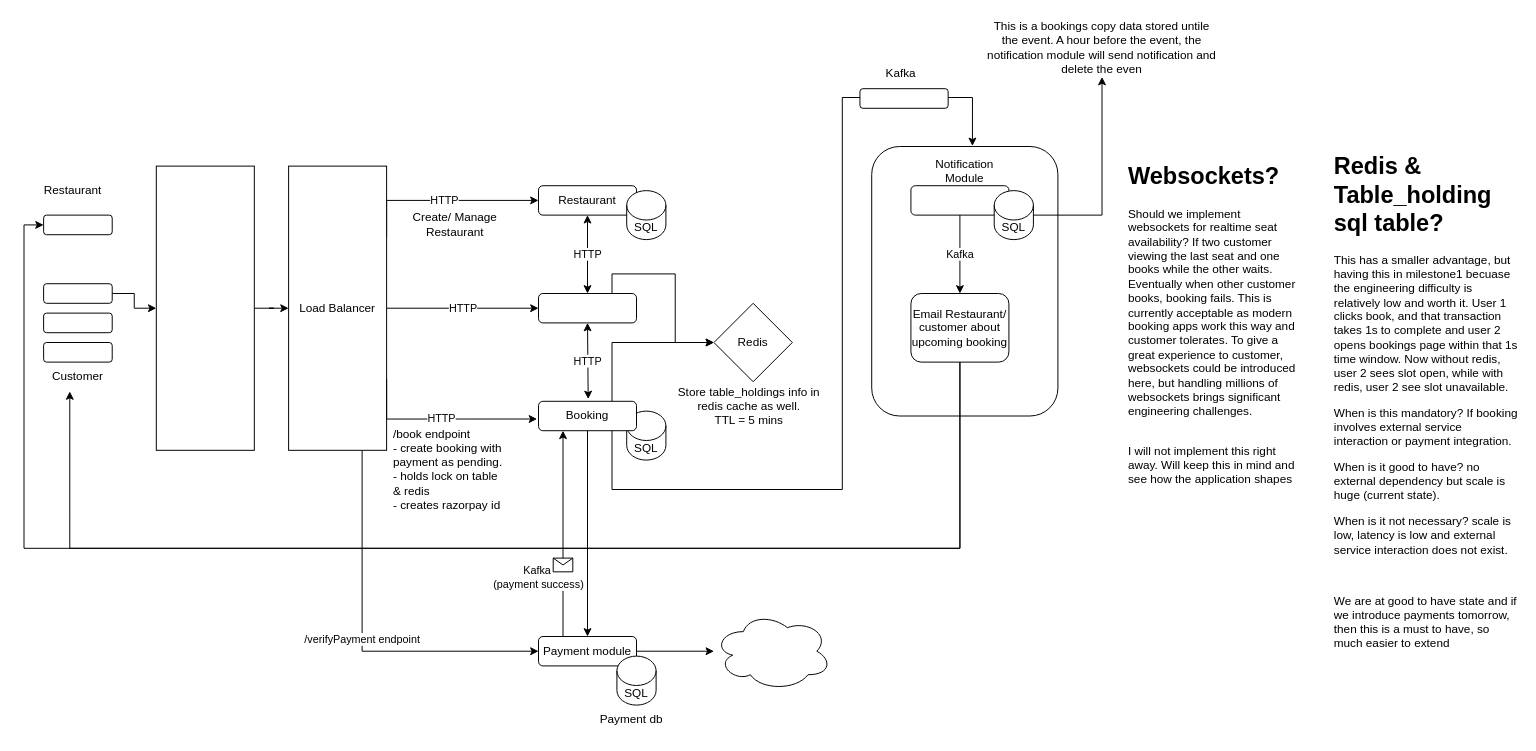
The diagram is 1536 pixels wide and 751 high, and some of its shapes have lost their labels. The centre of each missing label's shape, as x and y in pixels:
3rd party payment service: the point at 772,650
API Gateway rate-limiting security: the point at 204,307
booked-topic: the point at 903,98
booking-availability: the point at 587,308
Scheduler: the point at 959,200
